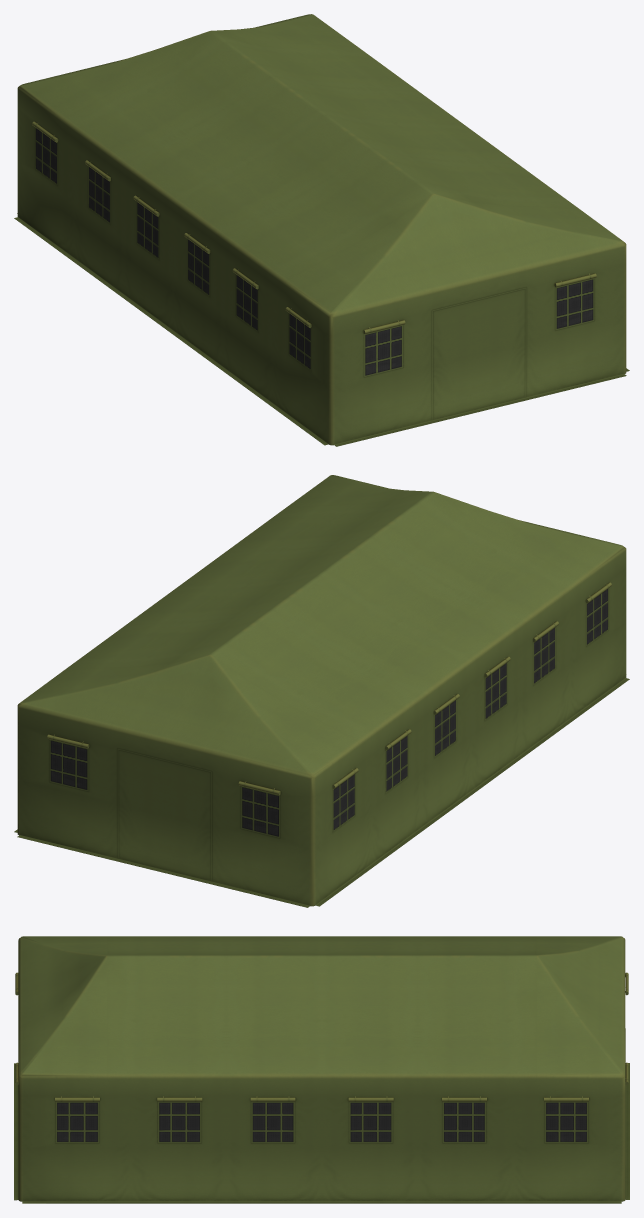
Rendered from Tent02_1.FBX.
3 renders of one model, top to bottom at view 1: azimuth 30°, elevation 25°; view 2: azimuth 150°, elevation 25°; view 3: azimuth 270°, elevation 25°, orthographic. The views are drawn at different scales.
Visible parts, largest first — view 1: Tent02_1; view 2: Tent02_1; view 3: Tent02_1.
Part boxes in pixels (box(x1,y1,x2,y2)): Tent02_1: box(14, 14, 629, 446); Tent02_1: box(14, 475, 629, 907); Tent02_1: box(14, 936, 629, 1203).
Size of what is drawn, in the model's own units: 8.32 by 4.74 by 15.05.
